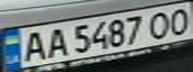4: (90, 18, 112, 51)
5: (69, 21, 93, 54)
7: (121, 12, 148, 44)
8: (106, 16, 130, 48)
A: (18, 28, 51, 63), (42, 25, 69, 60)
O: (163, 4, 193, 36), (145, 9, 175, 38)
